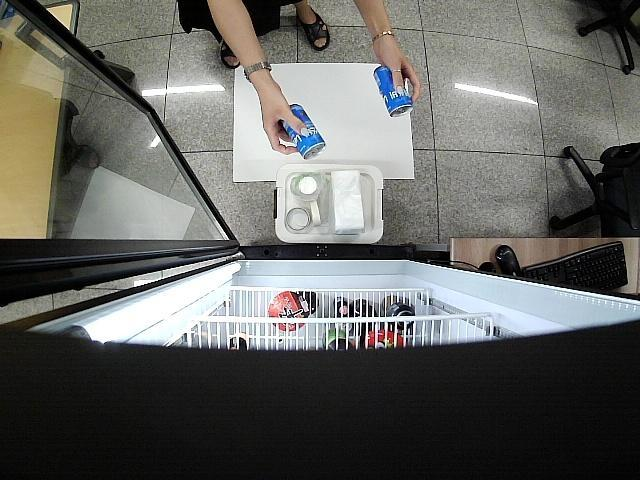15_letsbe: (280, 104, 327, 160), (373, 66, 412, 116)
